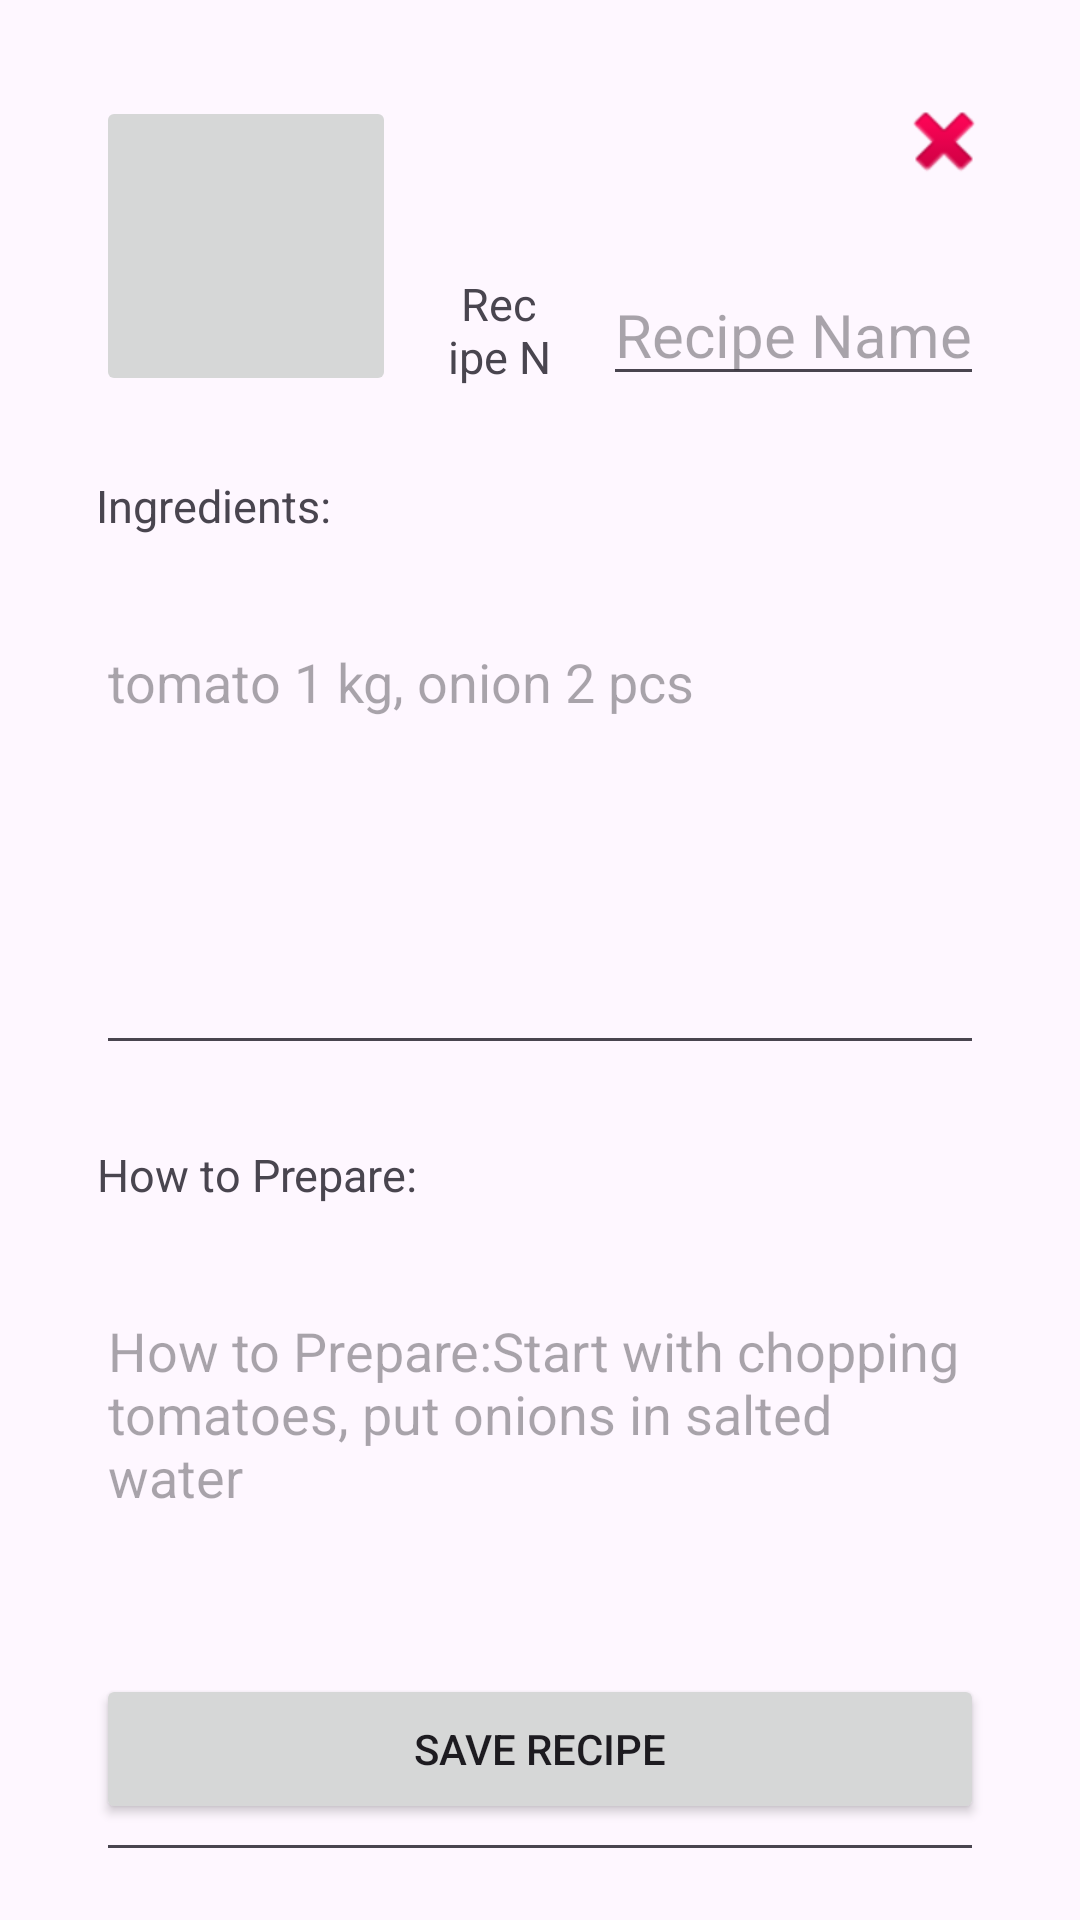

Icons on this 1080x1920 Android screen, each with the point to tap as (x,y):
delete: (944,141)
